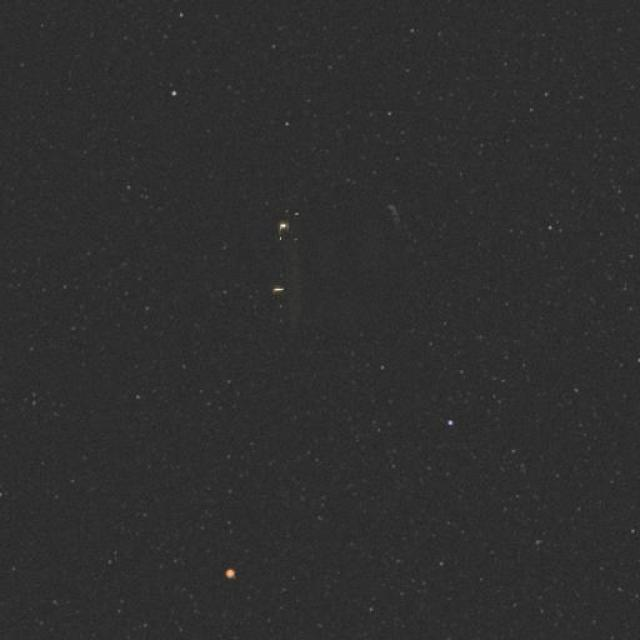proba_3_ocs: (246, 182, 428, 349)
